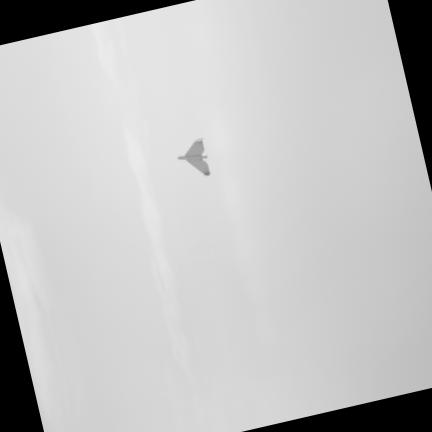Shahed: (178, 138, 209, 174)
